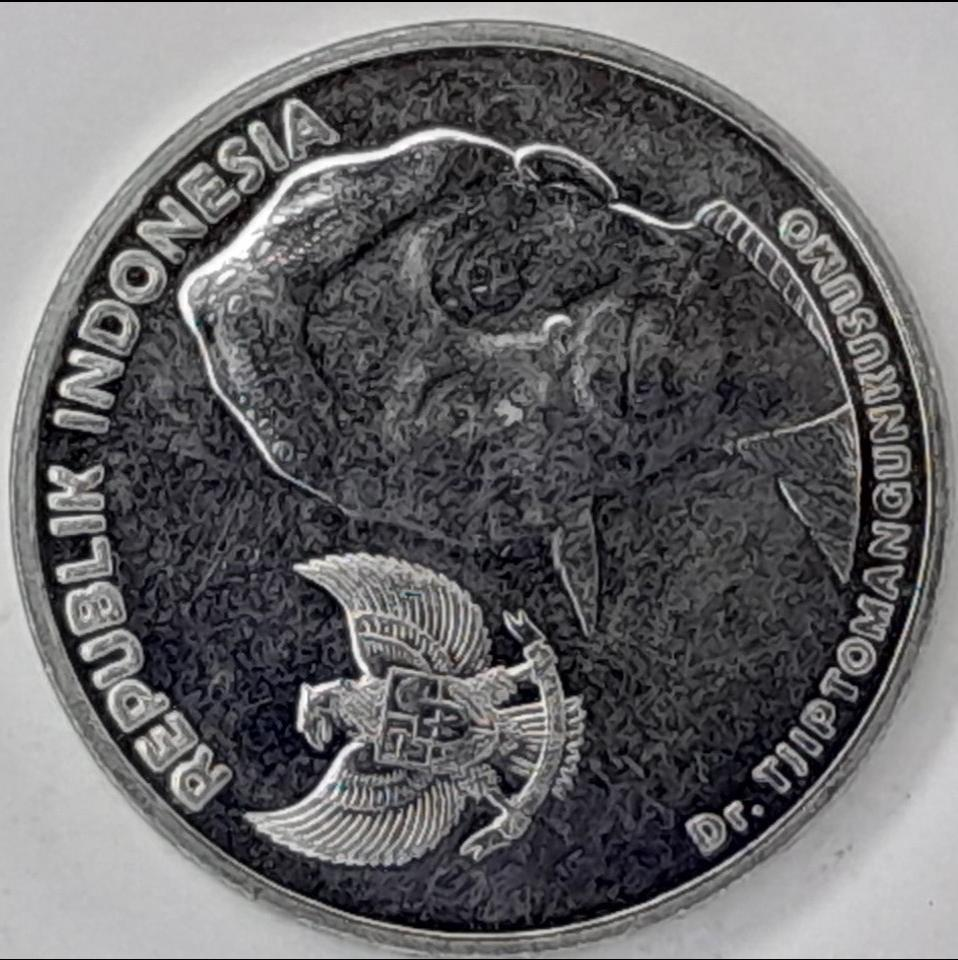coin_200_e2016: (0, 17, 958, 960)
